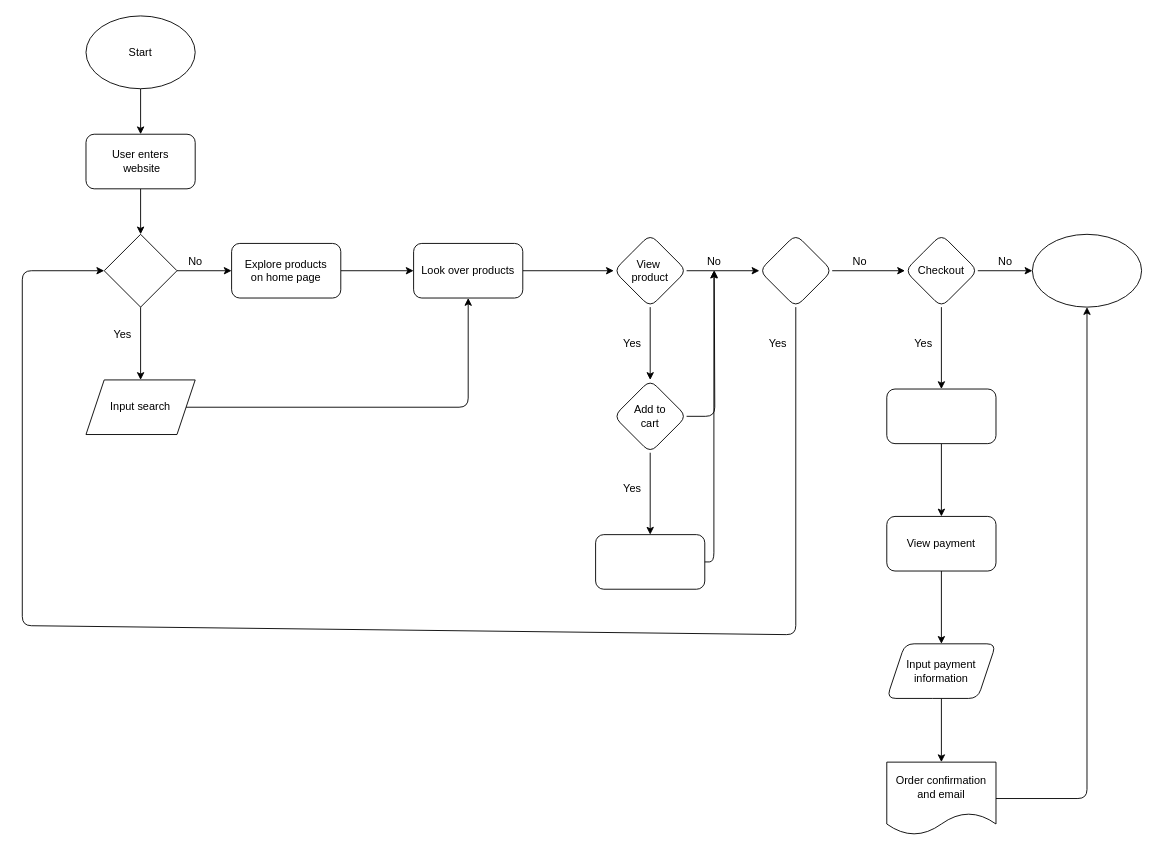
This 1158x851 diagram has some shape labels left out. Each missing label, with the box of its shape:
Cart confirmation: (595, 534, 705, 589)
Continue shopping: (758, 233, 832, 307)
Exit: (1031, 233, 1142, 307)
Search for product: (103, 233, 177, 307)
View cart: (886, 388, 996, 444)
